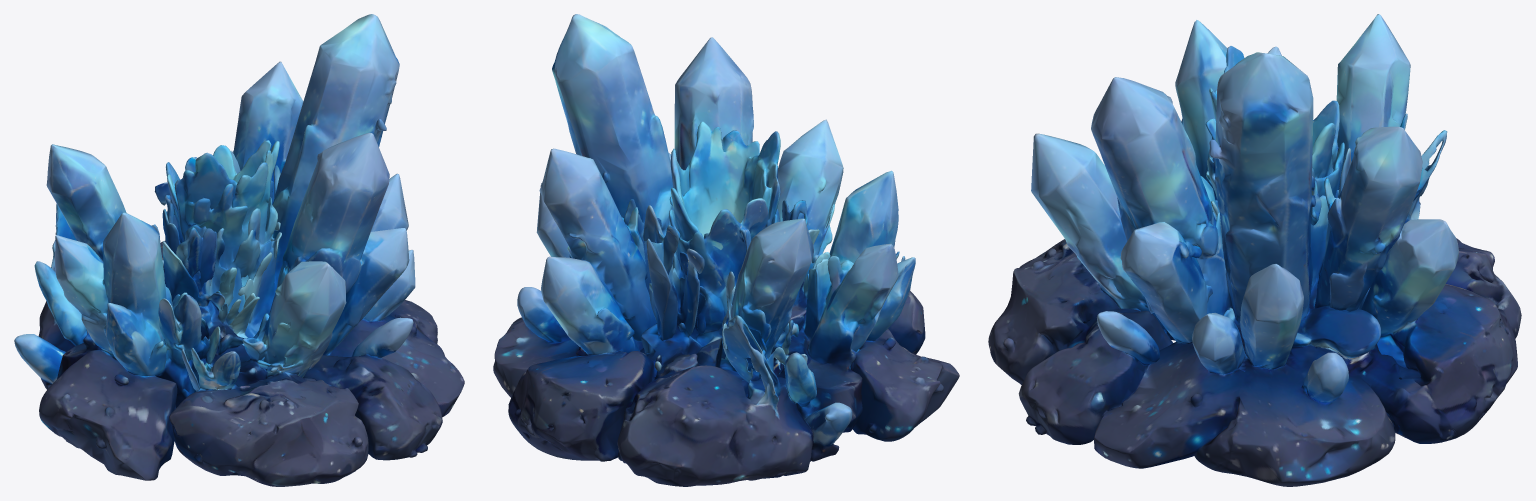
Rendered from prop-crystal-blue.glb.
3 renders of one model, left to right at view 1: azimuth 30°, elevation 25°; view 2: azimuth 150°, elevation 25°; view 3: azimuth 270°, elevation 25°, orthographic. The views are drawn at different scales.
Visible parts, largest first — view 1: tripo_node_da849ae0-c6d4-4a7c-bccc-25b4966fed5f; view 2: tripo_node_da849ae0-c6d4-4a7c-bccc-25b4966fed5f; view 3: tripo_node_da849ae0-c6d4-4a7c-bccc-25b4966fed5f.
Part boxes in pixels (x1,y1,x2,y2): tripo_node_da849ae0-c6d4-4a7c-bccc-25b4966fed5f: [14, 14, 464, 486]; tripo_node_da849ae0-c6d4-4a7c-bccc-25b4966fed5f: [493, 14, 959, 486]; tripo_node_da849ae0-c6d4-4a7c-bccc-25b4966fed5f: [988, 14, 1521, 486].
Bounding box in the file's own units: 2.3 × 2 × 2.3.
Materials: 1 (1 with a texture image).
